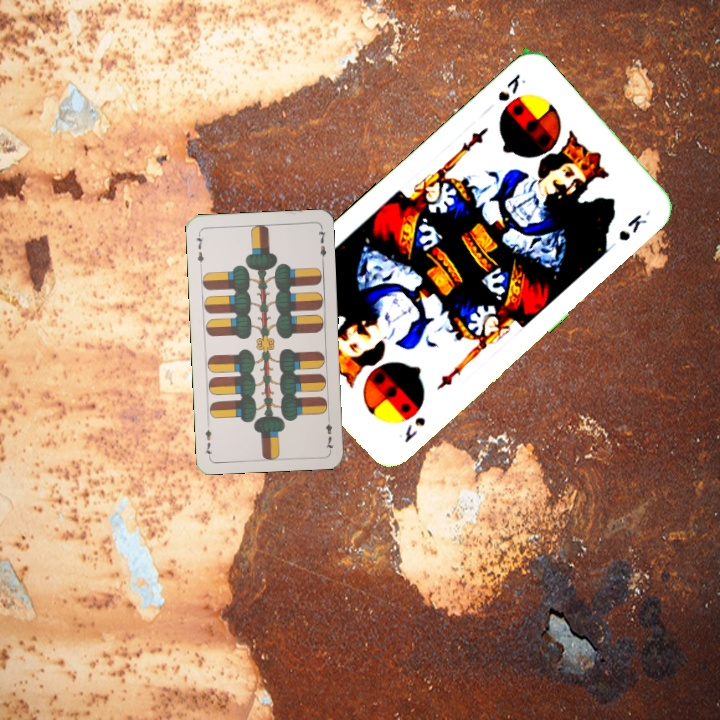E7: (192, 229, 206, 270), (322, 412, 336, 453)
SK: (494, 69, 529, 104), (394, 412, 428, 445)
